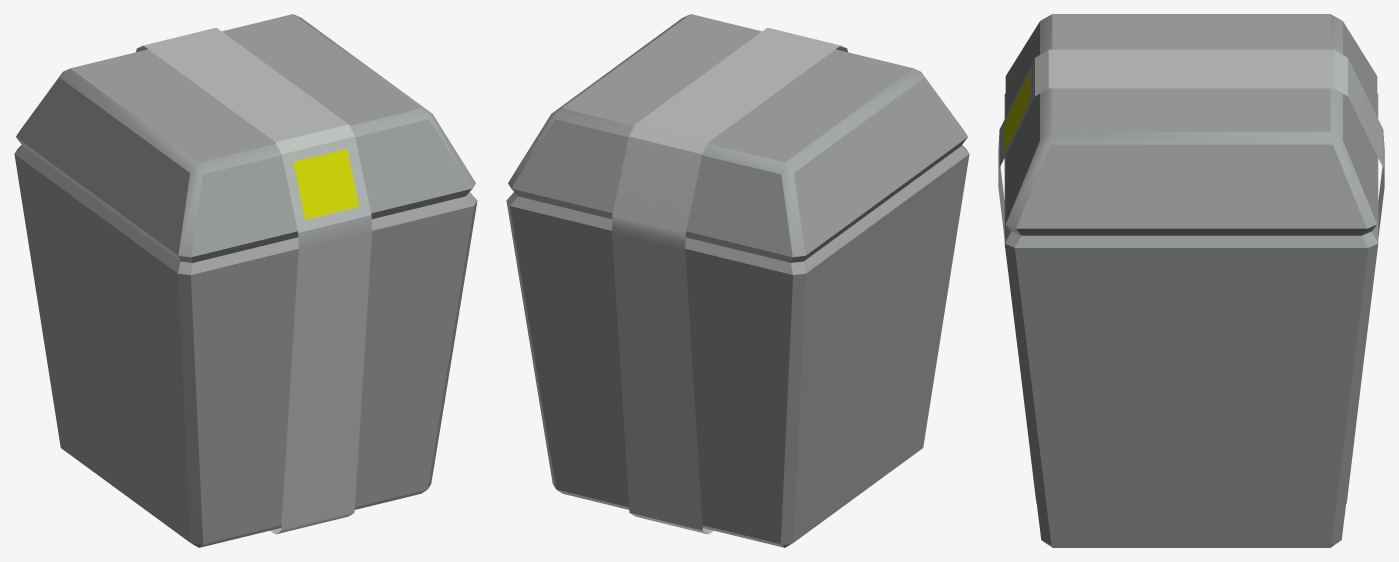
The picture shows the model from 3 angles, left to right: view 1: azimuth 30°, elevation 25°; view 2: azimuth 150°, elevation 25°; view 3: azimuth 270°, elevation 25°; orthographic projection. The views are drawn at different scales.
Parts seen in each view (by area): view 1: G:\FFXIV-MapTools\exports\x6f2\bg\ex5\01_xkt_x6\fld\x6f2\bgp (×2); view 2: G:\FFXIV-MapTools\exports\x6f2\bg\ex5\01_xkt_x6\fld\x6f2\bgp (×2); view 3: G:\FFXIV-MapTools\exports\x6f2\bg\ex5\01_xkt_x6\fld\x6f2\bgp (×2).
Part boxes in pixels (left/top/right/bottom): G:\FFXIV-MapTools\exports\x6f2\bg\ex5\01_xkt_x6\fld\x6f2\bgp (×2): left=14, top=14, right=477, bottom=547; G:\FFXIV-MapTools\exports\x6f2\bg\ex5\01_xkt_x6\fld\x6f2\bgp (×2): left=506, top=14, right=969, bottom=547; G:\FFXIV-MapTools\exports\x6f2\bg\ex5\01_xkt_x6\fld\x6f2\bgp (×2): left=998, top=14, right=1384, bottom=547.
Size of the model in its own units: 0.4097 by 0.5129 by 0.4233.
